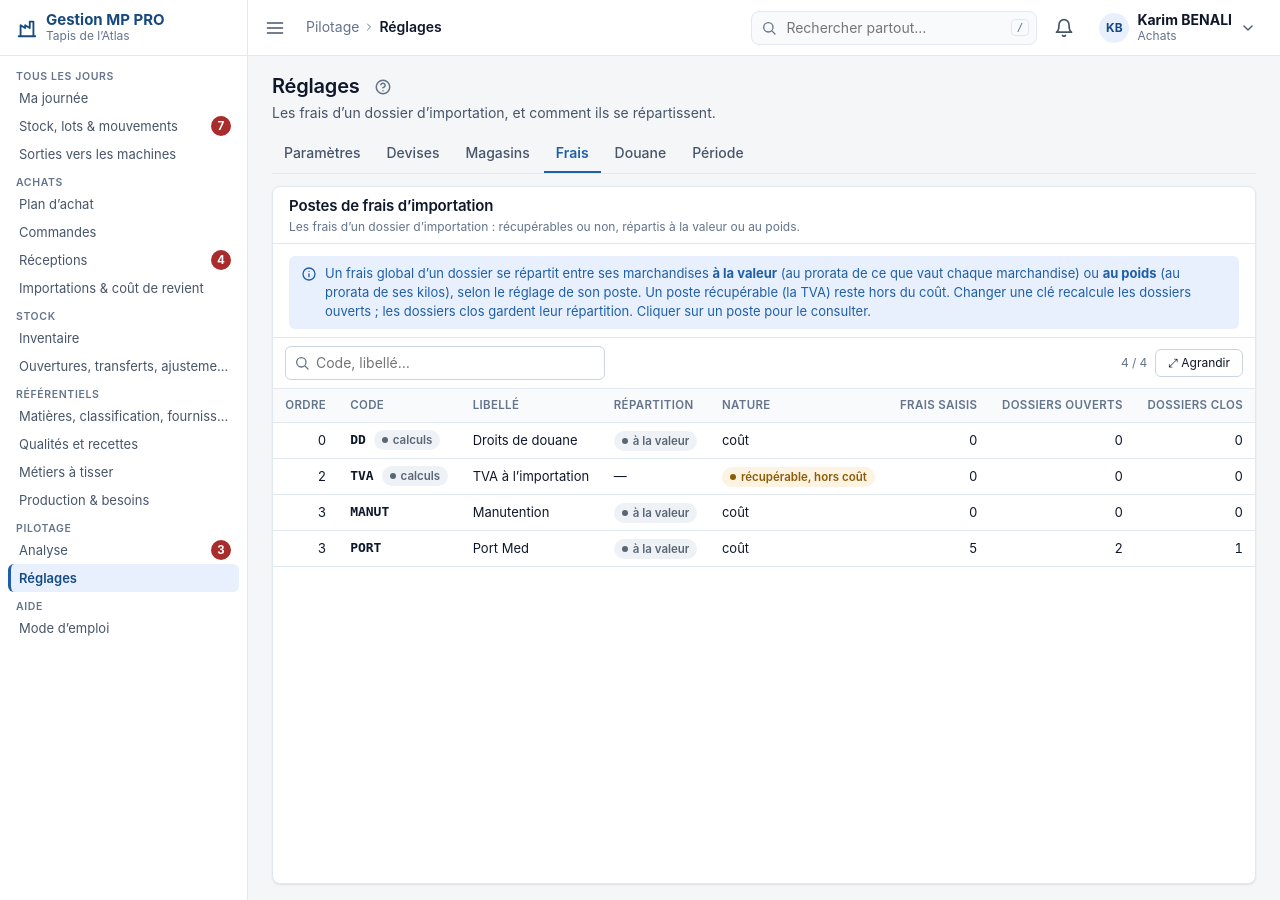
Postes de frais › les achats lisent : pas de « Nouveau poste », fenêtre sans geste d’écriture
(page scrolled)
Click the text "Port Med": click(531, 549) [461,531,602,567]
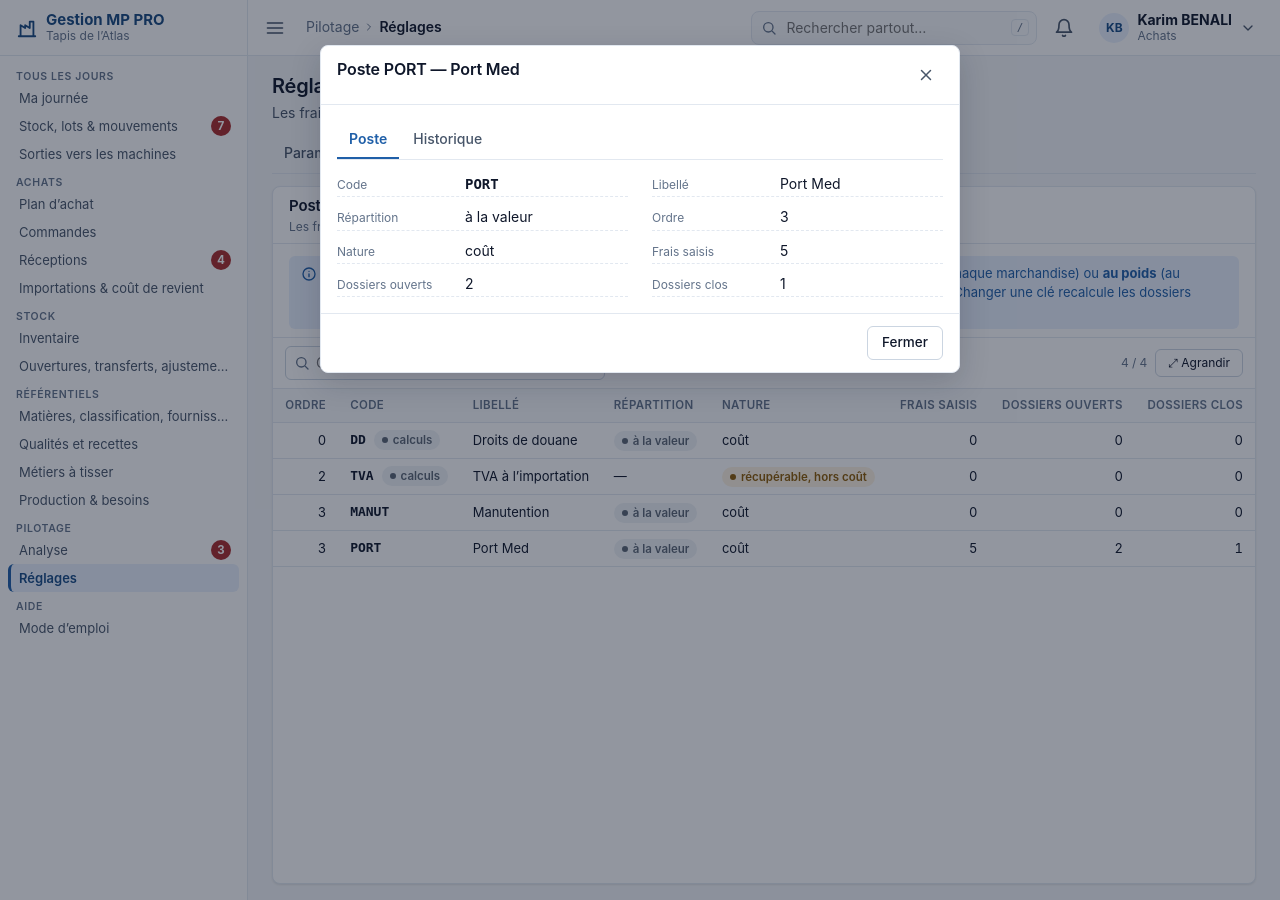
Expected: the text "à la valeur" is shown, [465,208,533,225]
Expected: the number of buttons named "Fermer" is 2, [909,58,943,92]; [867,326,943,360]
